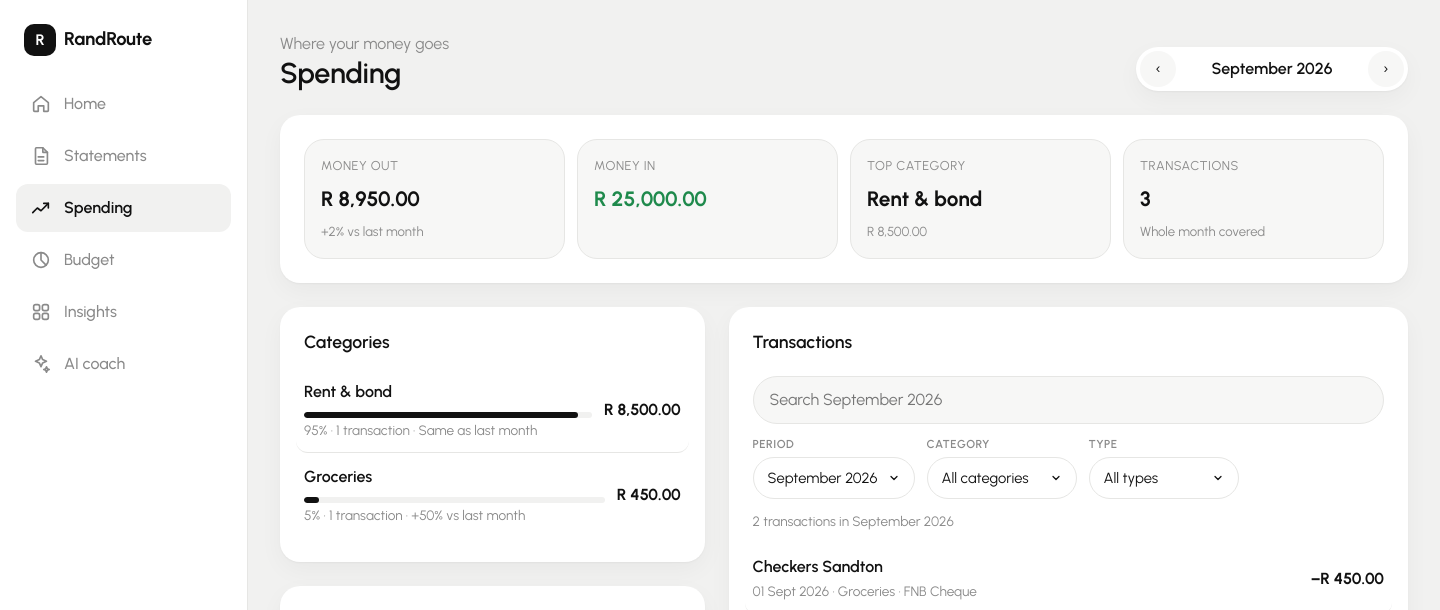
Test: Spending overview › searches all of history, not only the current month
The image size is (1440, 610).
Select "All time" in the dropdown labelled "Period" at (834, 478), box [753, 457, 915, 499]
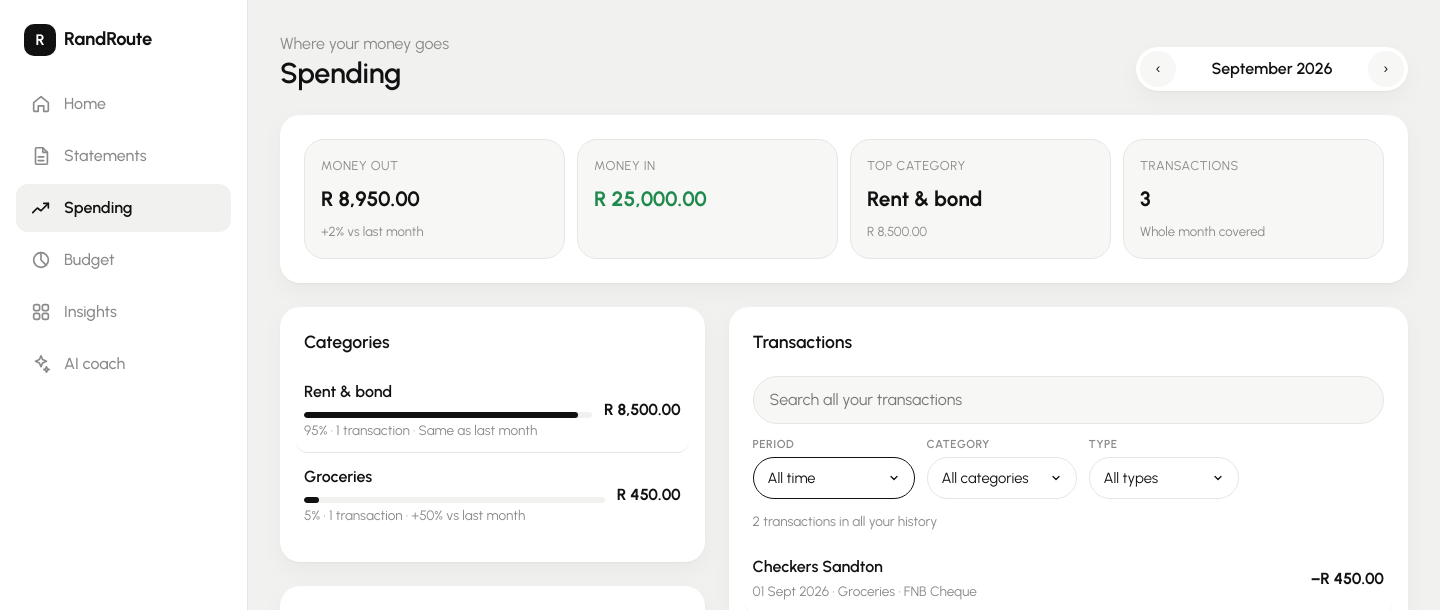
Type "rent" into the search field named "Search transactions" at (1068, 400), box [753, 376, 1384, 424]
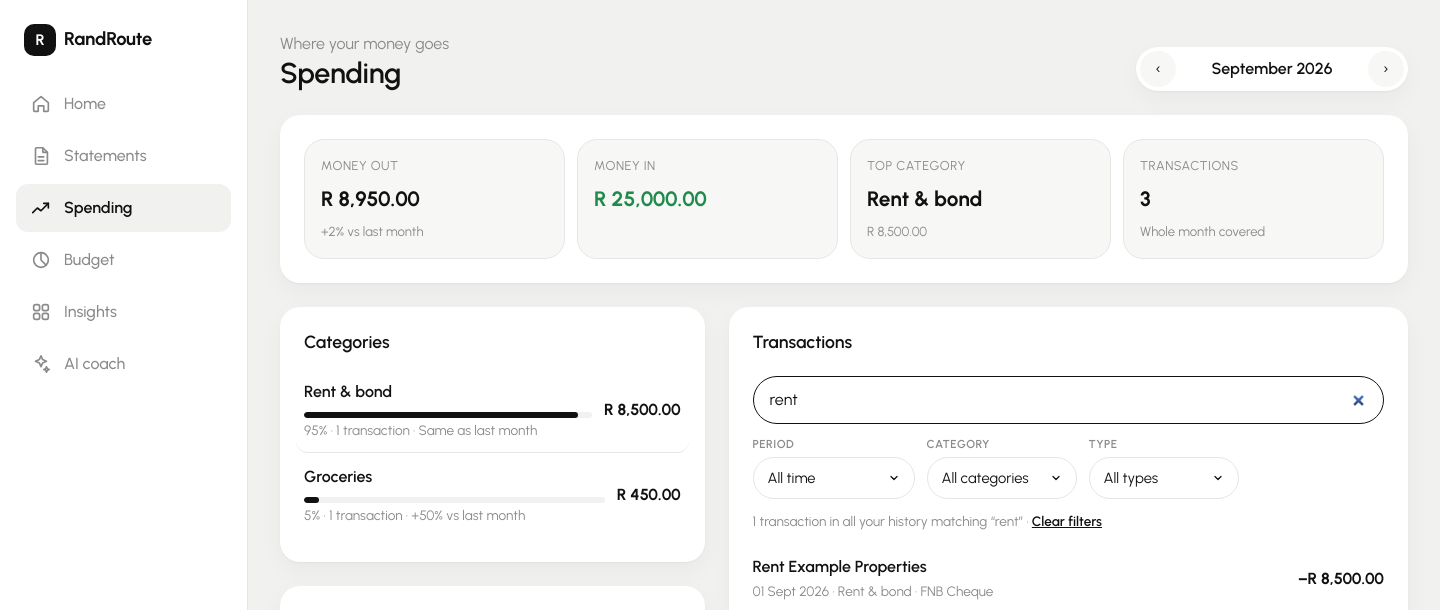
Expected: the text "1 transaction in all your history matching “rent”" is shown, [753, 513, 1023, 529]
